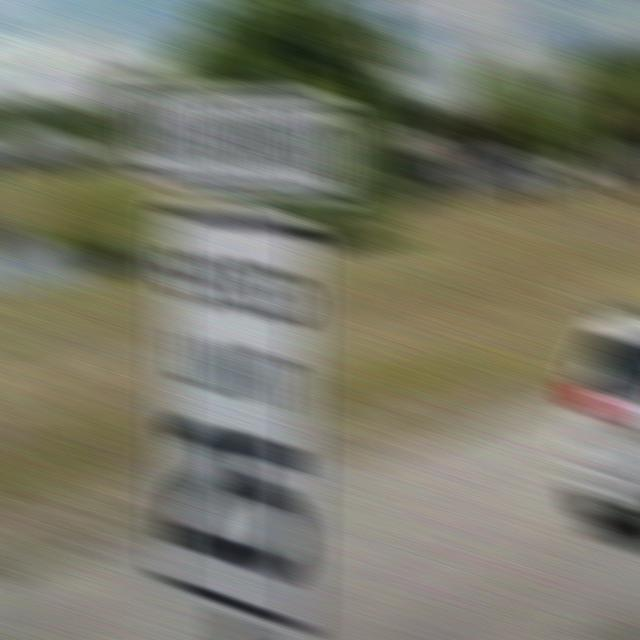speedLimit25: (153, 193, 317, 625)
